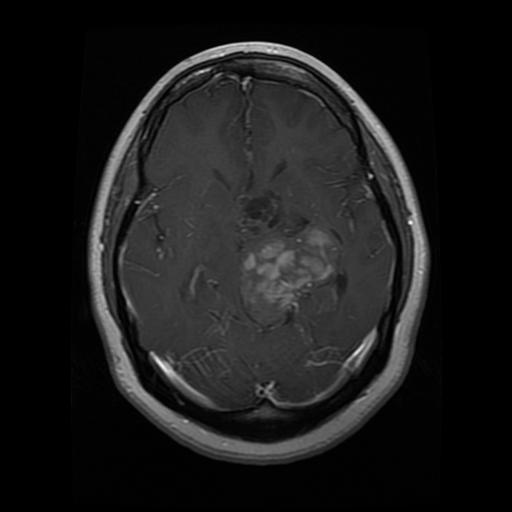Gliomia_tumour: (236, 222, 341, 325)
